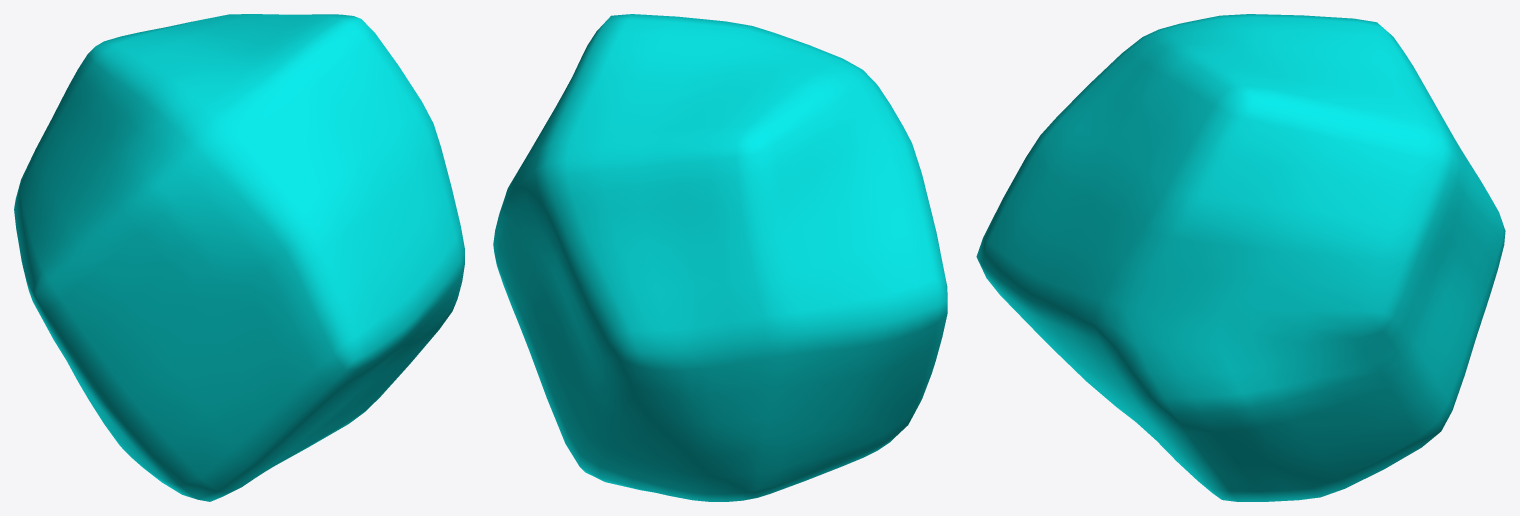
Rendered from Project2Stone2.fbx.
3 views of the same model, side by side, from view 1: azimuth 30°, elevation 25°; view 2: azimuth 150°, elevation 25°; view 3: azimuth 270°, elevation 25° (orthographic). The views are drawn at different scales.
Visible parts, largest first — view 1: Stone2; view 2: Stone2; view 3: Stone2.
Boxes of the visible parts, x1=… form: Stone2: x1=14, y1=14, x2=464, y2=501; Stone2: x1=493, y1=14, x2=947, y2=501; Stone2: x1=976, y1=14, x2=1505, y2=501.
Size of the model in its own units: 2.3 by 2.3 by 2.57.
